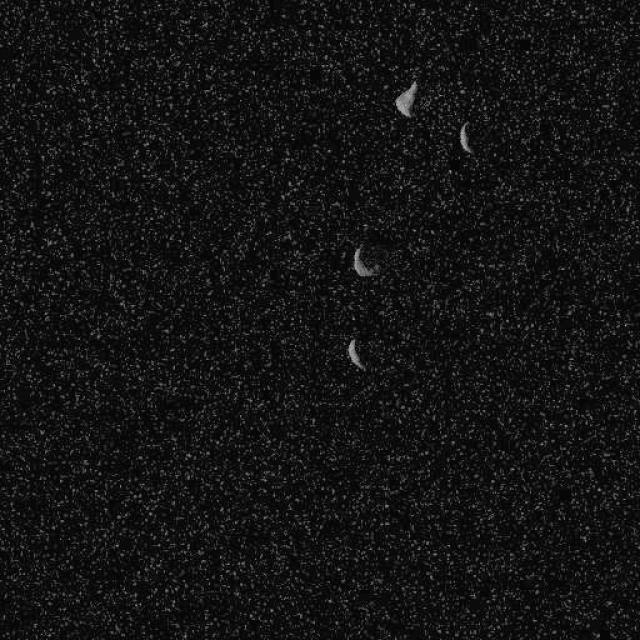D2: (351, 242, 380, 278), (393, 78, 418, 118), (345, 338, 365, 372), (458, 120, 473, 154)
